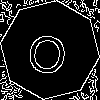O: (25, 25, 71, 76)
